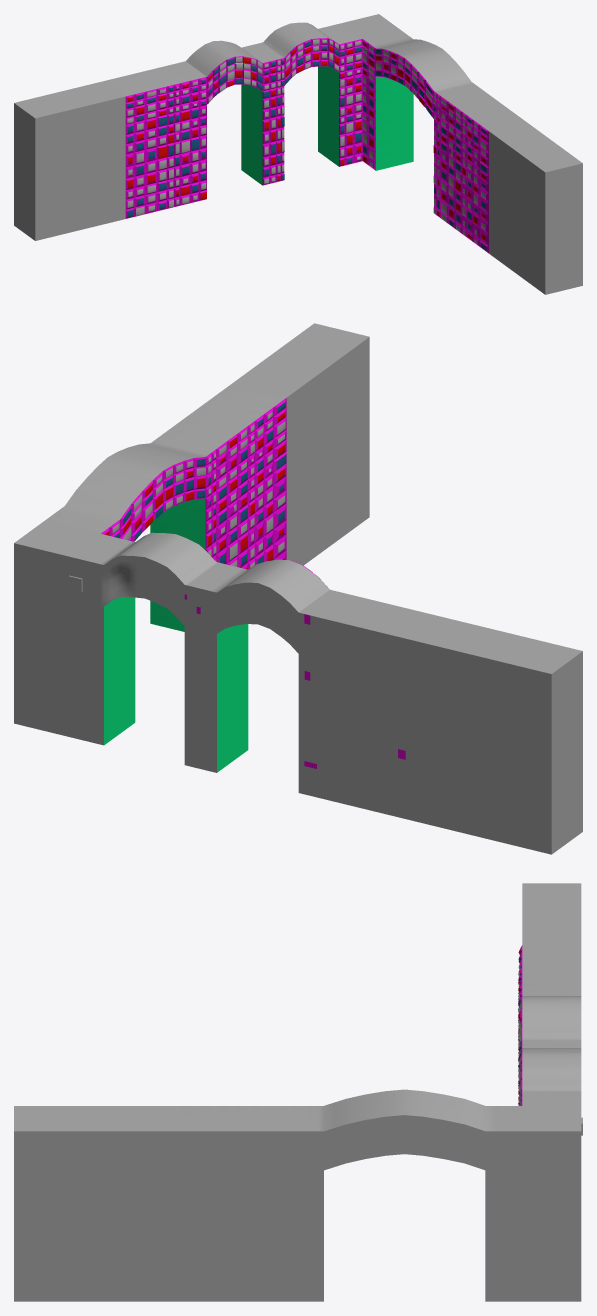
Rendered from Wall.fbx.
The picture shows the model from 3 angles, top to bottom: view 1: azimuth 30°, elevation 25°; view 2: azimuth 150°, elevation 25°; view 3: azimuth 270°, elevation 25°; orthographic projection. The views are drawn at different scales.
Visible parts, largest first — view 1: Wall; view 2: Wall; view 3: Wall.
Boxes of the visible parts, <box> form: Wall: <box>14,14,582,294</box>; Wall: <box>14,323,582,854</box>; Wall: <box>14,883,582,1301</box>.
Bounding box in the file's own units: 1001 × 356 × 971.
